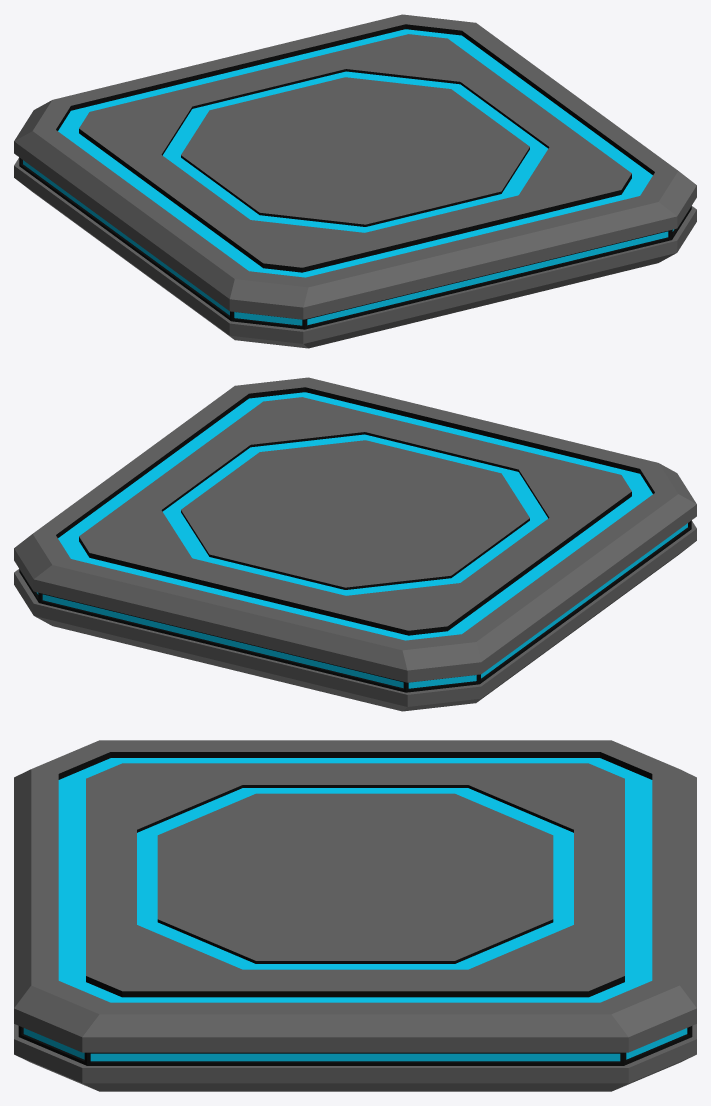
Rendered from platform_02.FBX.
The picture shows the model from 3 angles, top to bottom: view 1: azimuth 30°, elevation 25°; view 2: azimuth 150°, elevation 25°; view 3: azimuth 270°, elevation 25°; orthographic projection. The views are drawn at different scales.
Visible parts, largest first — view 1: platform_02; view 2: platform_02; view 3: platform_02.
Part boxes in pixels (<box>): platform_02: <box>14,14,696,348</box>; platform_02: <box>14,377,696,711</box>; platform_02: <box>14,740,696,1091</box>.
Bounding box in the file's own units: 200 × 25 × 200.
